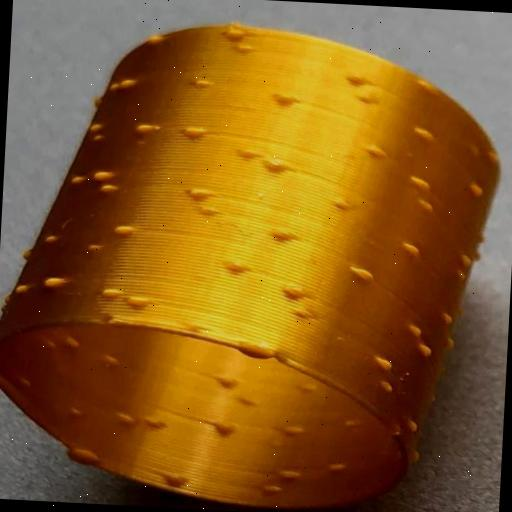blobs: (231, 141, 267, 170), (264, 154, 296, 180), (112, 406, 144, 432), (273, 86, 306, 108), (404, 167, 434, 191), (159, 468, 191, 490), (343, 262, 371, 287), (179, 186, 217, 204), (218, 257, 254, 276), (126, 292, 158, 313), (411, 76, 441, 98), (210, 372, 242, 392), (68, 444, 98, 465), (214, 413, 238, 439), (412, 127, 440, 149), (394, 240, 428, 258), (39, 272, 77, 288), (84, 122, 114, 142), (367, 355, 400, 373), (296, 378, 324, 399), (271, 225, 300, 245), (284, 284, 310, 306), (14, 280, 44, 299), (131, 119, 159, 138), (101, 349, 125, 371), (68, 172, 94, 192), (182, 124, 208, 144), (366, 143, 392, 163), (190, 74, 220, 91), (112, 74, 142, 91), (343, 70, 368, 90), (145, 413, 171, 432), (112, 220, 136, 240), (330, 196, 358, 213), (265, 482, 292, 499), (89, 166, 117, 182), (326, 456, 348, 476), (416, 195, 436, 216), (333, 416, 363, 430), (416, 341, 438, 360), (379, 380, 401, 399), (224, 28, 250, 44), (98, 284, 124, 300), (280, 422, 302, 440), (66, 334, 86, 353), (459, 250, 479, 269), (280, 468, 306, 482), (440, 312, 460, 330), (68, 405, 88, 423), (470, 180, 488, 199), (407, 323, 427, 340), (406, 416, 424, 434), (98, 182, 118, 196), (146, 33, 164, 48)
